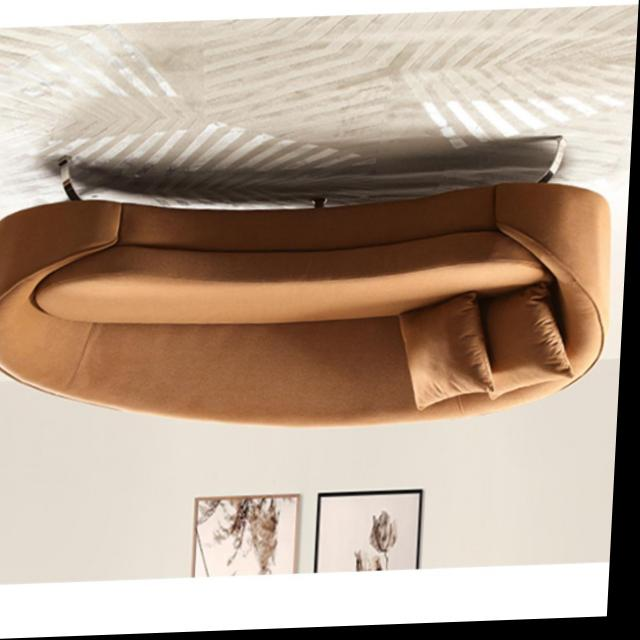Sofa: (0, 137, 624, 442)
